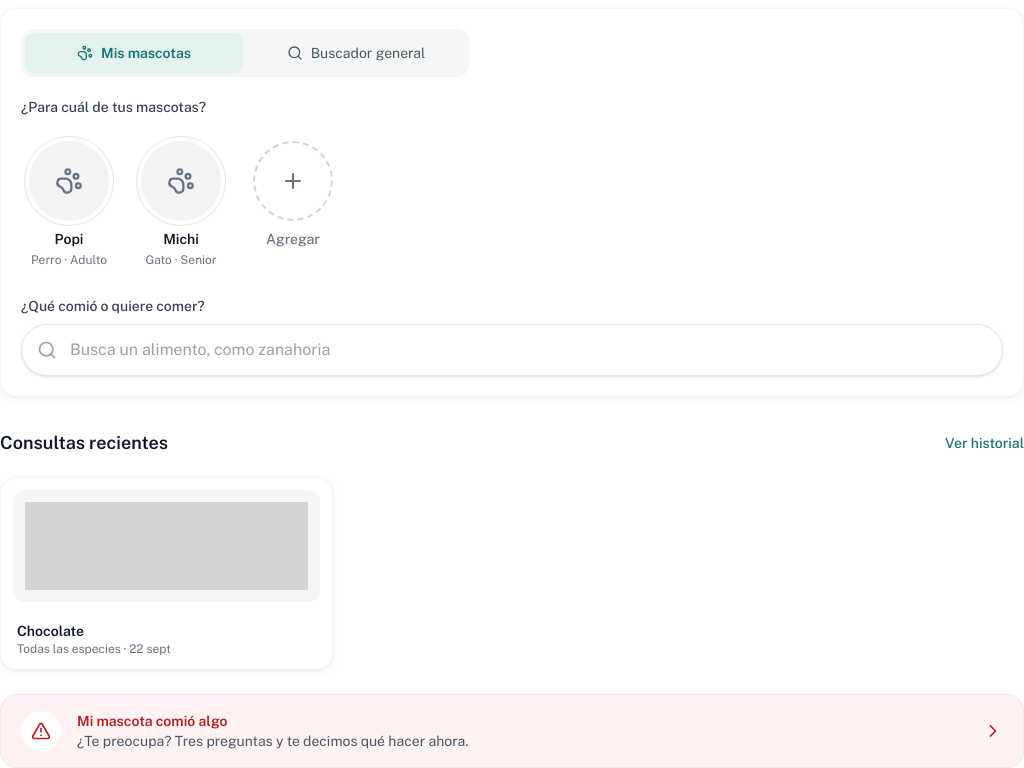
it: SearchPage › repeats a general consultation in the general search
(page scrolled)
Click the button with aria-label "Consultar de nuevo Chocolate".
click(167, 574)  # box [0,477,333,670]
(page scrolled)
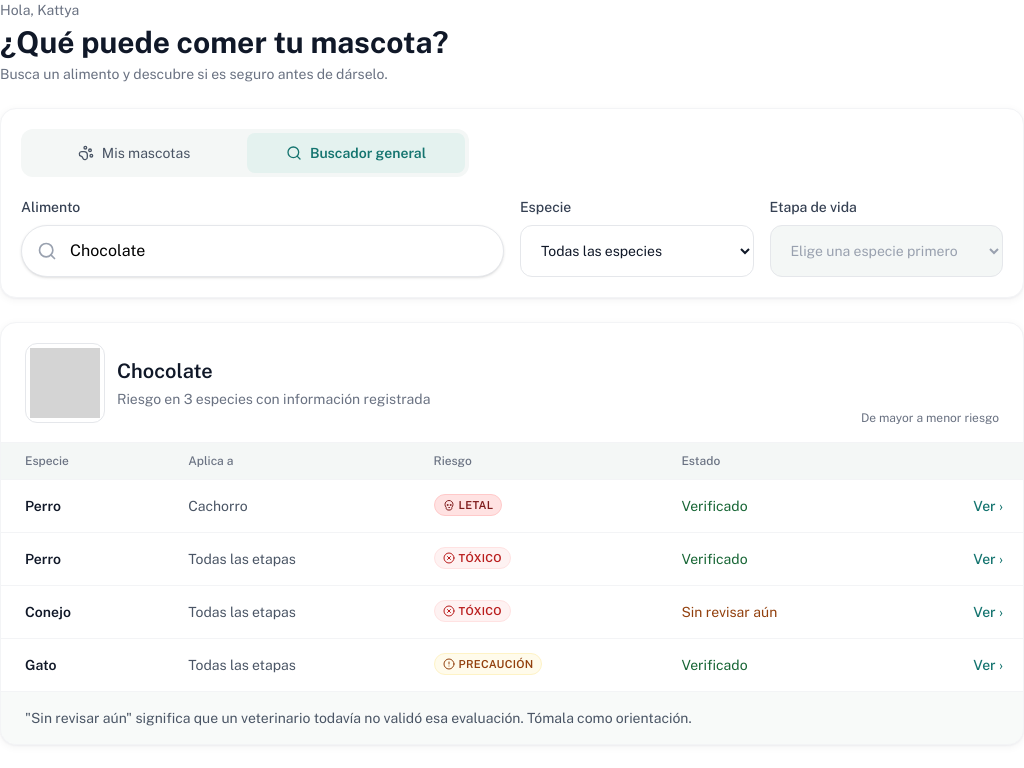
Expected: the table is shown, [1,443,1023,691]
